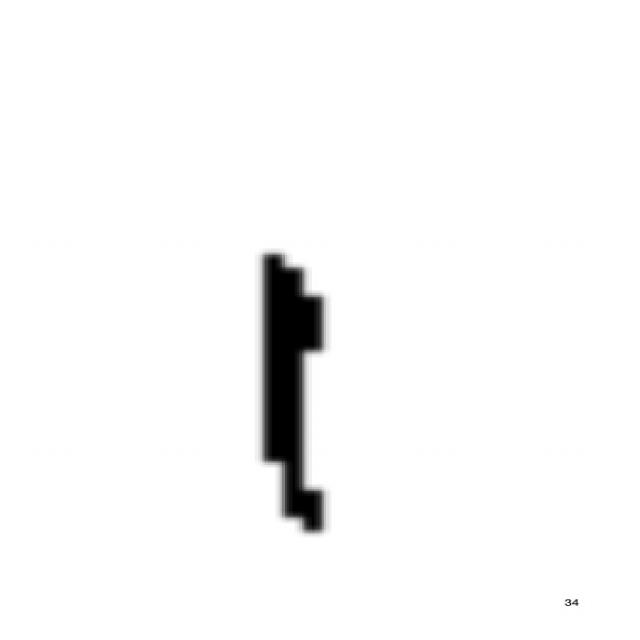1 -one-: (240, 232, 344, 544)
